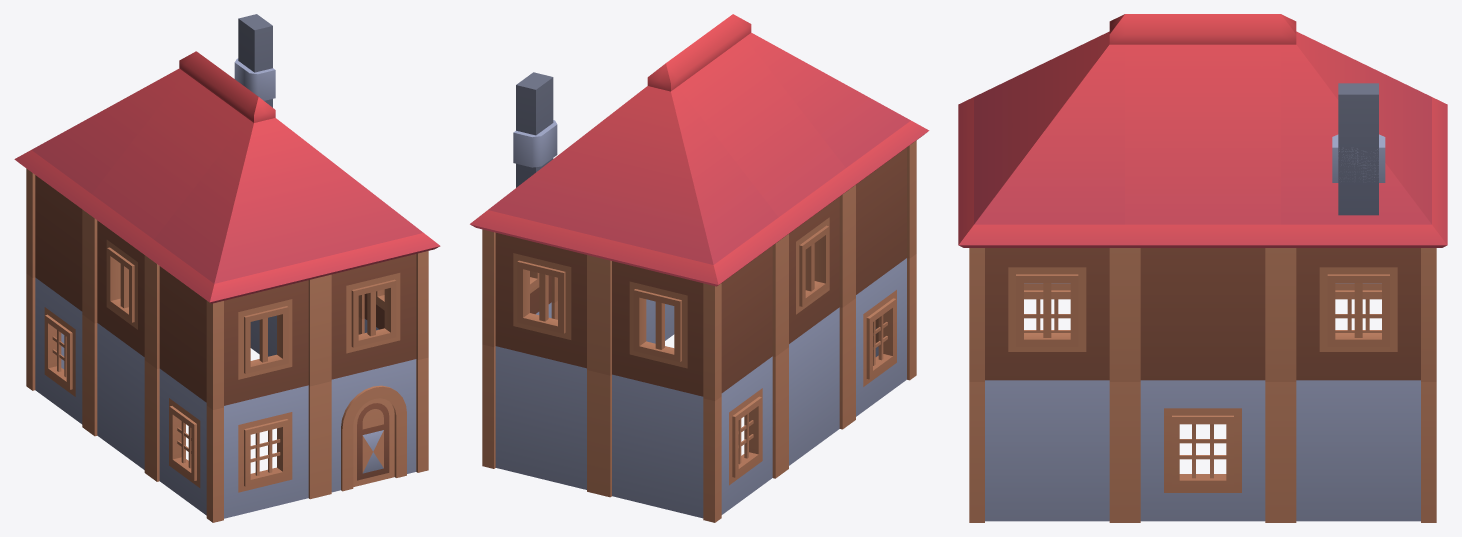
File: house.glb
3 renders of one model, left to right at view 1: azimuth 30°, elevation 25°; view 2: azimuth 150°, elevation 25°; view 3: azimuth 270°, elevation 25°, orthographic. The views are drawn at different scales.
Parts seen in each view (by area): view 1: house; view 2: house; view 3: house.
Part boxes in pixels (box(x1,y1,x2,y2)): house: box(14, 14, 440, 522); house: box(470, 14, 929, 522); house: box(958, 14, 1447, 522).
Bounding box in the file's own units: 6.42 × 9.42 × 9.42.
Materials: 27 (27 with a texture image).
